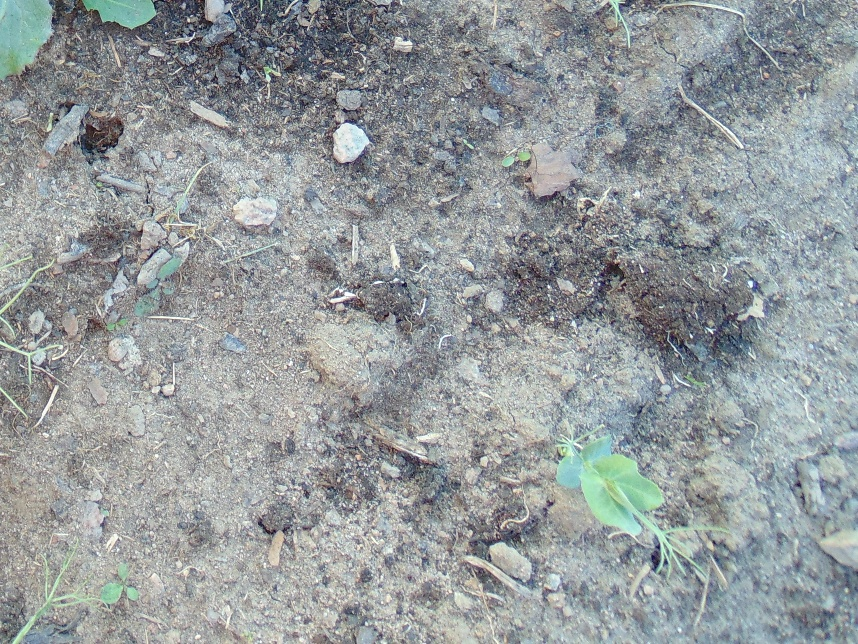crop: (557, 432, 693, 571), (10, 560, 79, 644), (1, 297, 44, 367), (605, 1, 632, 38)
weed: (1, 1, 159, 82), (131, 253, 182, 320), (99, 563, 138, 605), (502, 150, 532, 170)
